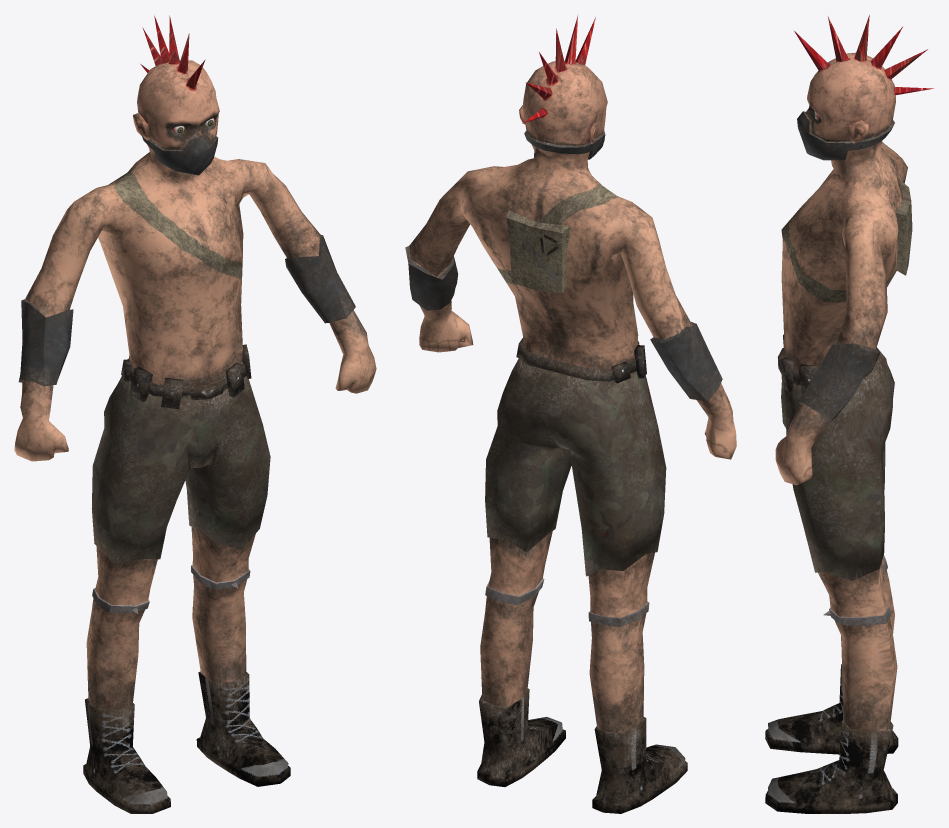
File: Anim_idle_npc2.0032.obj
3 renders of one model, left to right at view 1: azimuth 30°, elevation 25°; view 2: azimuth 150°, elevation 25°; view 3: azimuth 270°, elevation 25°, orthographic.
Visible parts, largest first — view 1: polySurface1; view 2: polySurface1; view 3: polySurface1.
Boxes of the visible parts, bbox=[...] form: polySurface1: bbox=[14, 15, 376, 813]; polySurface1: bbox=[405, 14, 736, 813]; polySurface1: bbox=[765, 15, 933, 813].
Bounding box in the file's own units: 4.77 × 10.18 × 2.05.
